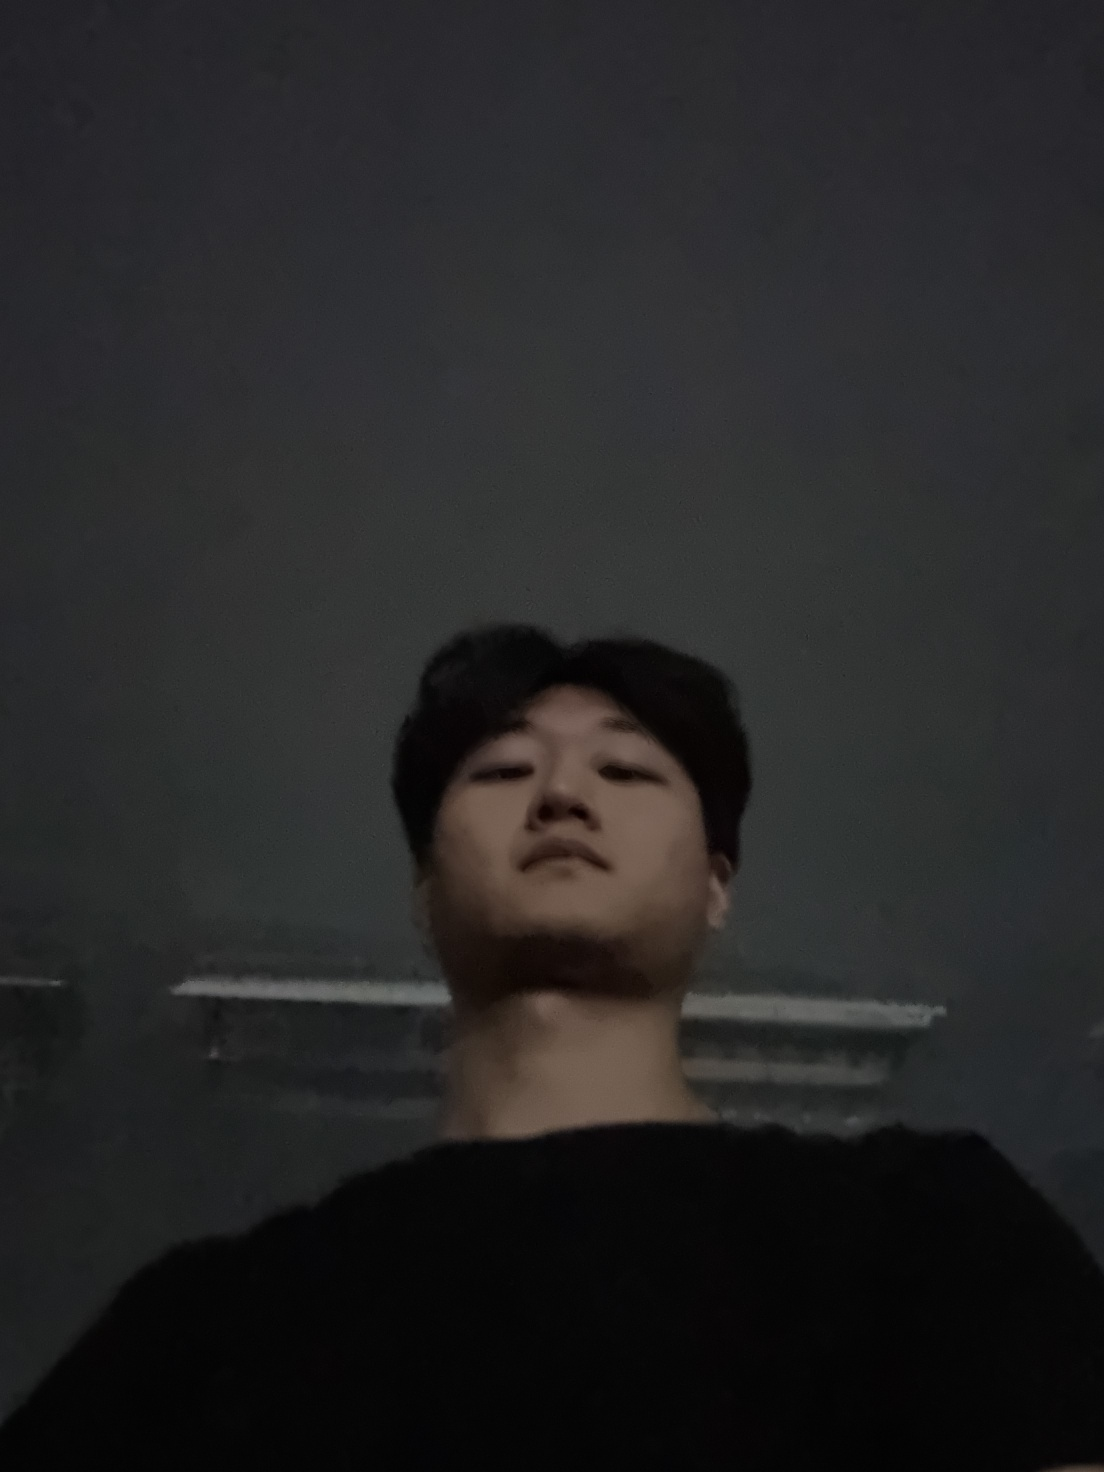Non-Helmet: (340, 576, 827, 1065)
